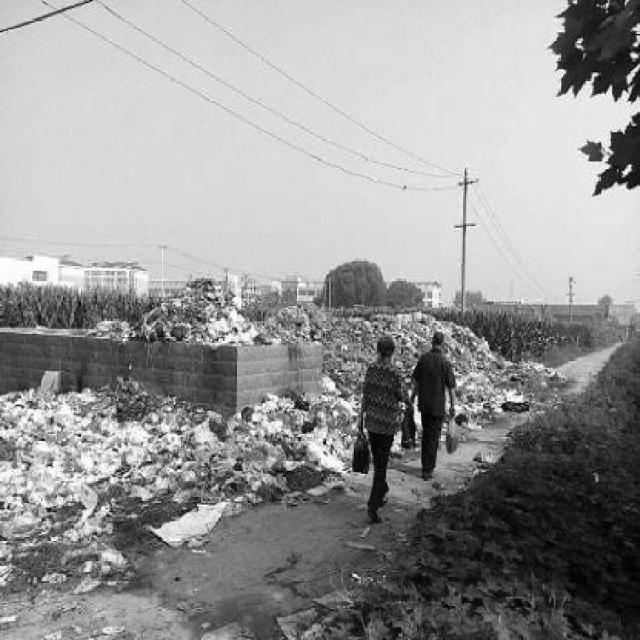garbage: (1, 388, 224, 535), (99, 280, 338, 336), (459, 331, 573, 446), (5, 539, 146, 596), (348, 300, 537, 336)
